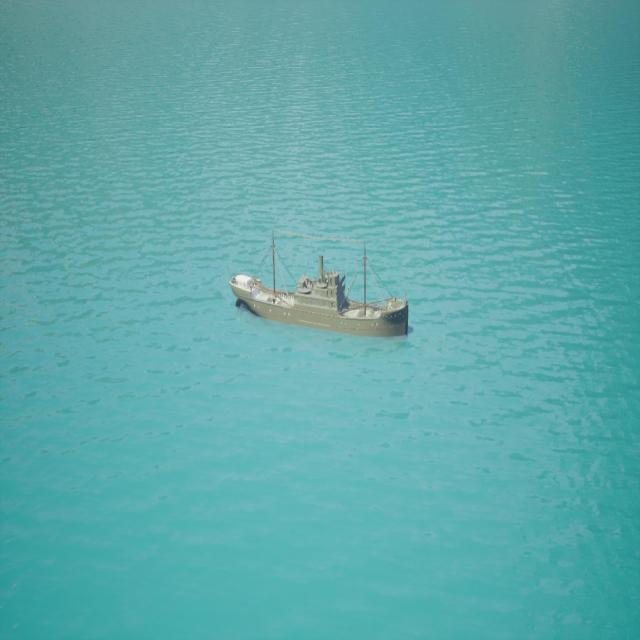fishing ship: (229, 229, 411, 343)
